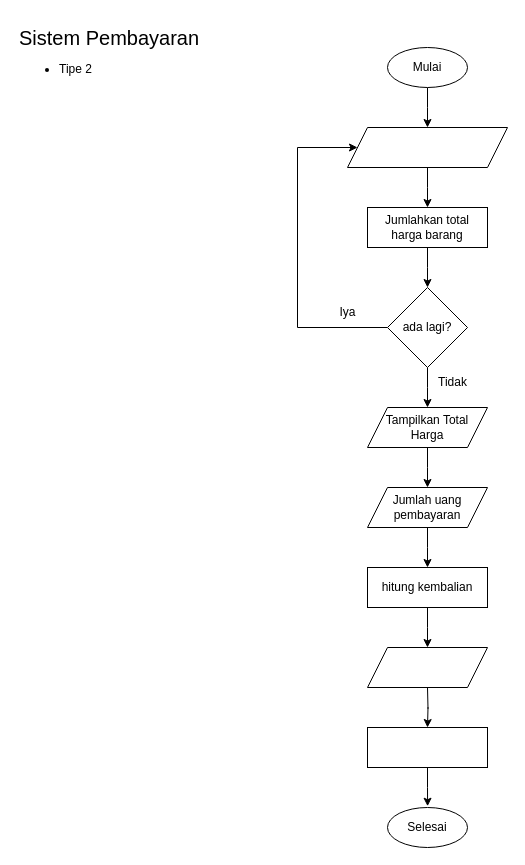
Image size: 525x865. Some labels were removed from this diagram. Each missing label, with the centre of its shape:
"Cetak struk" goes at point 427,667.
"Laporan pembelian" goes at point 427,747.
"Nama barang & Jumlah barang" goes at point 427,147.
